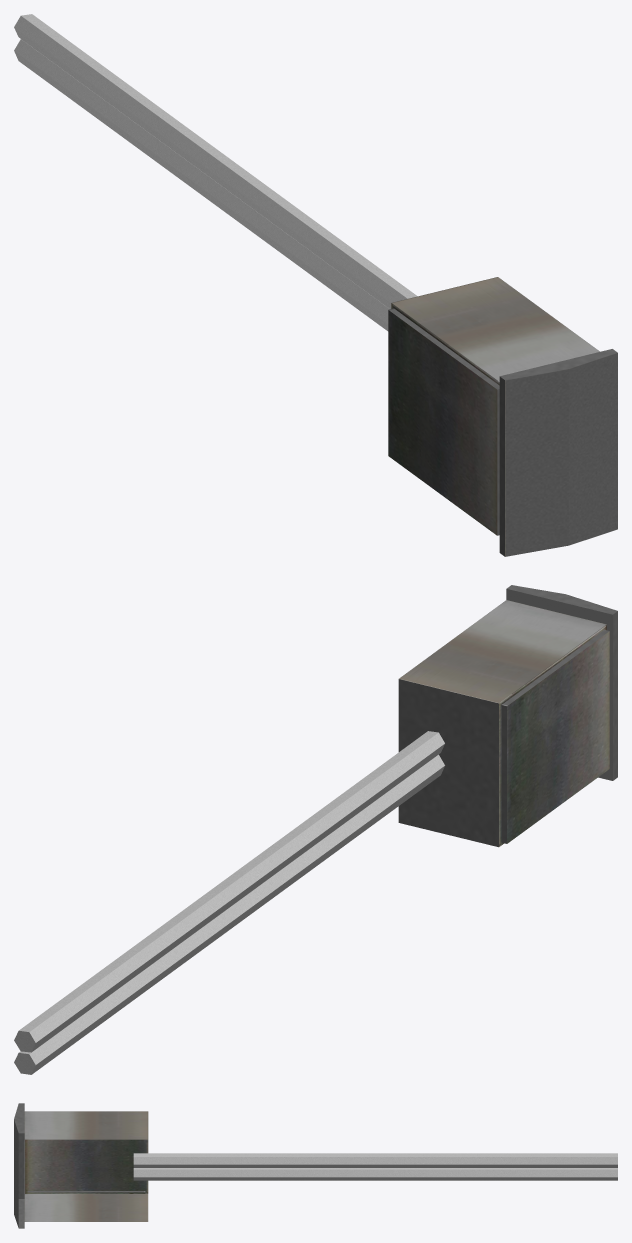
Rendered from ftzbzsb-dzx-216-geode.glb.
3 renders of one model, top to bottom at view 1: azimuth 30°, elevation 25°; view 2: azimuth 150°, elevation 25°; view 3: azimuth 270°, elevation 25°, orthographic. The views are drawn at different scales.
Visible parts, largest first — view 1: Node; view 2: Node; view 3: Node.
Boxes of the visible parts, x1,y1,x2,y2 form: Node: [14, 14, 617, 556]; Node: [14, 585, 617, 1074]; Node: [14, 1103, 617, 1228].
Bounding box in the file's own units: 0.2377 × 0.3554 × 2.04.
3 materials, 3 textured.
